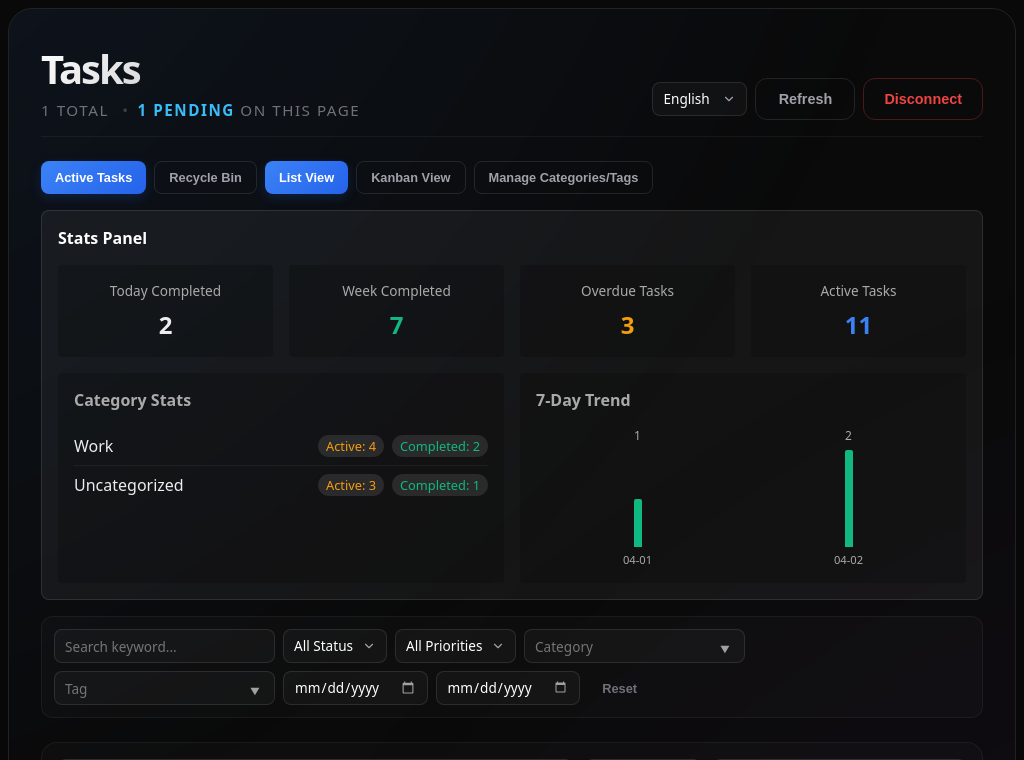
Test: TodoList reset behavior › switches active tasks to kanban view and hides list-only controls
What coordinates should you click on to do the following:
click the button "Kanban View"
I would click on:
 (411, 178)
Its box is x1=356 y1=161 x2=466 y2=194.
(page scrolled)
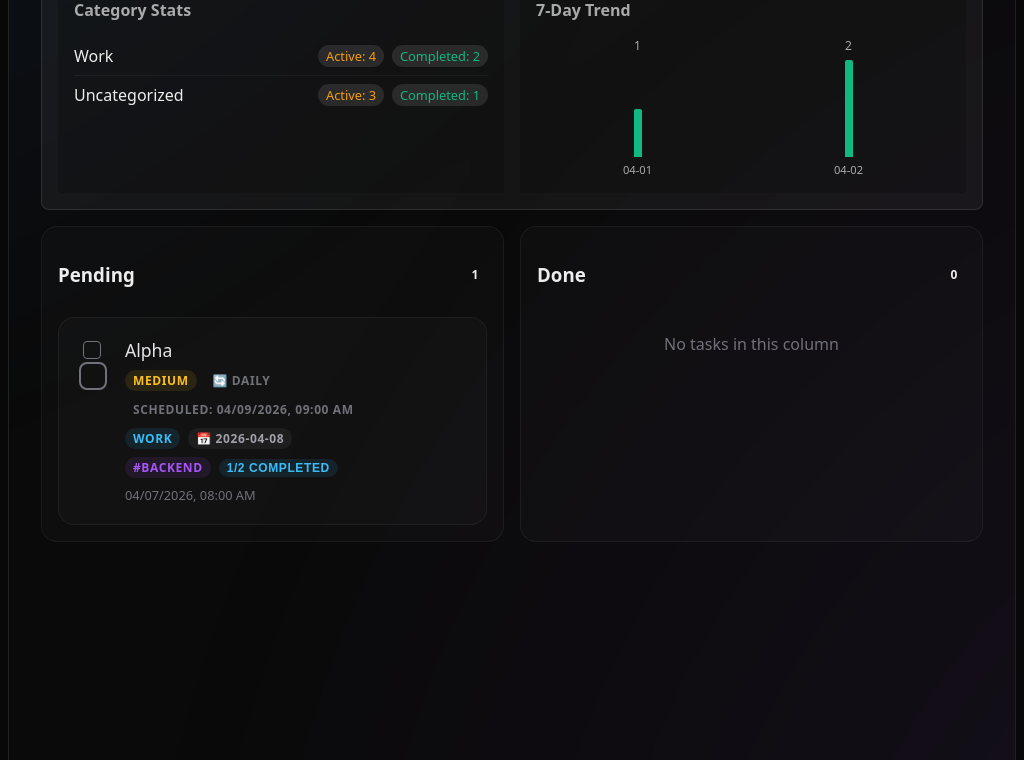
Expected: the text "Pending" is shown, x1=58 y1=262 x2=135 y2=287
Expected: the element with class "kanban-board" is shown, x1=41 y1=226 x2=983 y2=542
Expected: the text "Done" is shown, x1=537 y1=262 x2=586 y2=287
